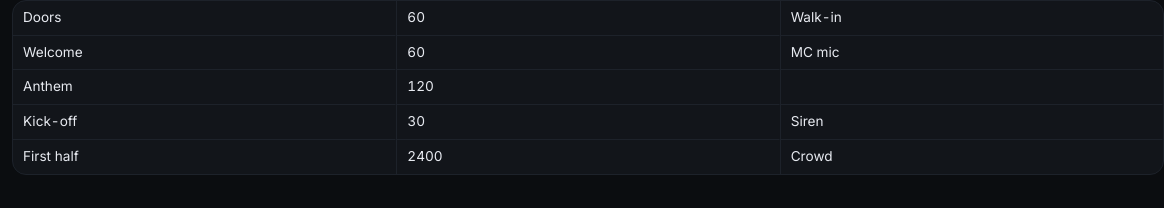
Scenario: spreadsheet keys › a paste from Google Sheets keeps bold, italic and a coloured cell
Click the cell "Doors": (205,18) [13,1,396,36]
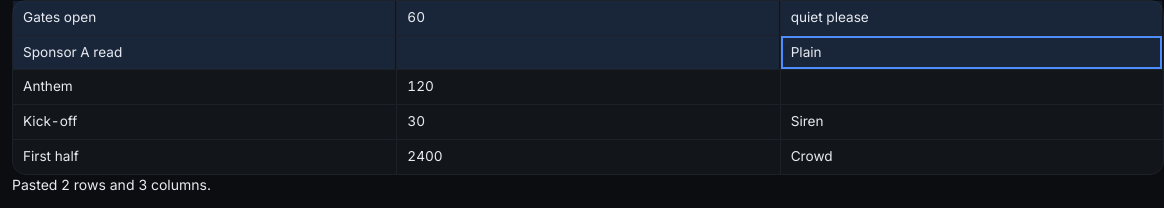
Expected: the cell "Gates open" is shown, [13,1,396,36]
Expected: the cell "quiet please" is shown, [780,1,1163,36]
Expected: the cell "Plain" is shown, [780,36,1163,70]
